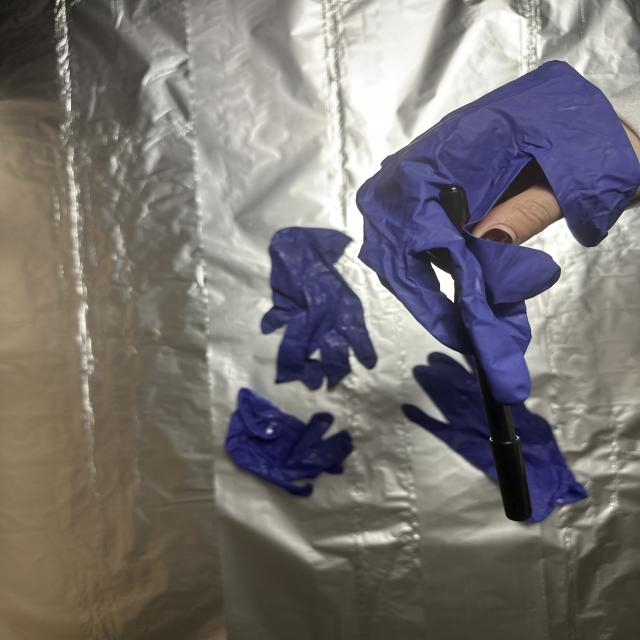glove_not_fitted: (348, 60, 640, 408)
